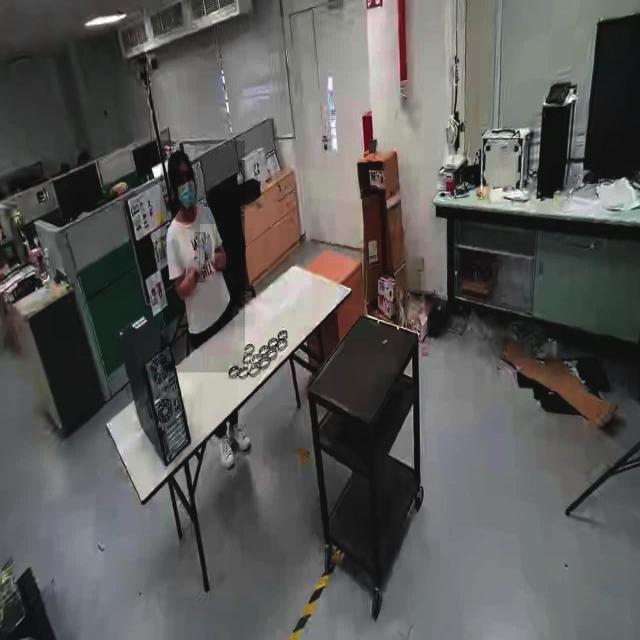face_mask: (177, 171, 194, 222)
hand_glove: (200, 224, 216, 271), (194, 232, 206, 284)
head_nohelmet: (168, 149, 194, 170)
person: (160, 140, 245, 374)
shoes: (228, 419, 254, 457), (213, 432, 237, 471)
